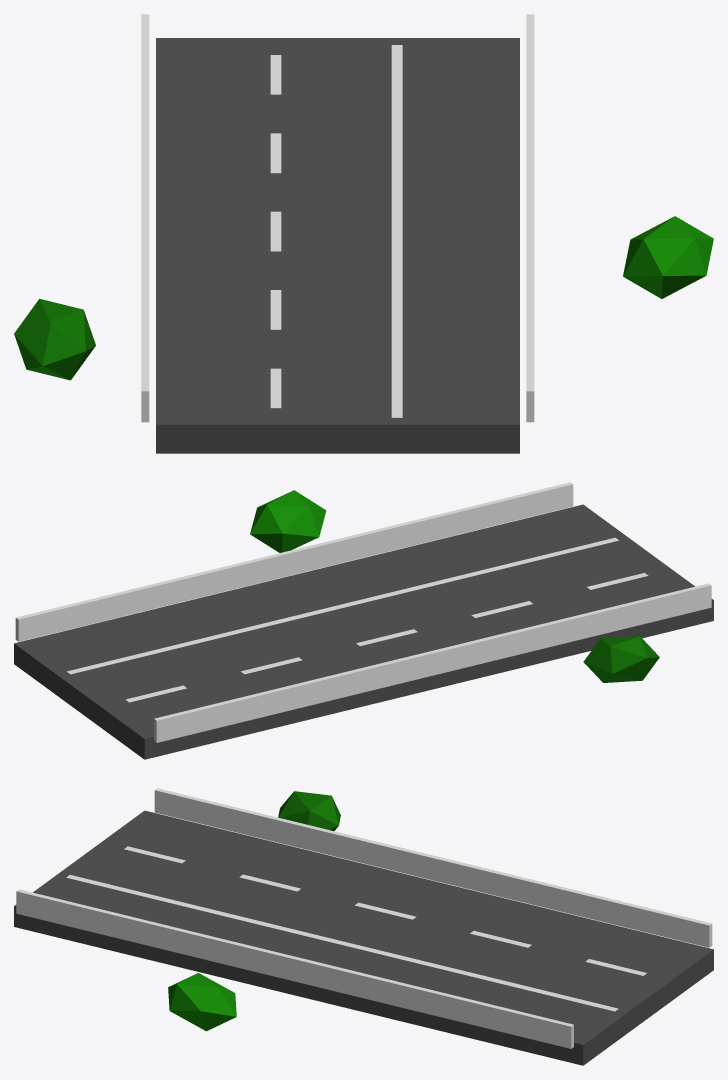
File: highway_03_4.fbx
3 views of the same model, one above another, from view 1: azimuth 30°, elevation 25°; view 2: azimuth 150°, elevation 25°; view 3: azimuth 270°, elevation 25° (orthographic). The views are drawn at different scales.
Visible parts, largest first — view 1: highway03.003, leitPlanks.003, bush6, bush7, laneMarkingFull, laneMarkingsLeft.003; view 2: highway03.003, leitPlanks.003, bush6, bush7, laneMarkingFull, laneMarkingsLeft.003; view 3: highway03.003, leitPlanks.003, bush6, laneMarkingFull, bush7, laneMarkingsLeft.003.
Boxes of the visible parts, x1,y1,x2,y2 form: highway03.003: (156,38,519,453); leitPlanks.003: (141,14,534,422); bush6: (623,216,713,298); bush7: (14,298,95,380); laneMarkingFull: (391,45,402,417); laneMarkingsLeft.003: (270,55,281,408); highway03.003: (14,504,713,759); leitPlanks.003: (15,482,711,742); bush6: (250,490,326,552); bush7: (583,636,659,682); laneMarkingFull: (67,537,618,674); laneMarkingsLeft.003: (125,573,648,702); highway03.003: (14,810,713,1065); leitPlanks.003: (16,788,712,1048); bush6: (168,973,236,1031); laneMarkingFull: (66,875,618,1011); bush7: (278,791,340,830); laneMarkingsLeft.003: (124,846,646,975).
Size of the model in its own units: 86.99 by 7.65 by 105.
